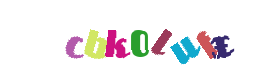0: (98, 0, 178, 80)
B: (65, 0, 145, 80)
C: (56, 0, 136, 80)
F: (145, 0, 225, 80)
K: (75, 0, 155, 80)
L: (98, 0, 178, 80)
U: (144, 0, 224, 80)
X: (181, 0, 261, 80)
